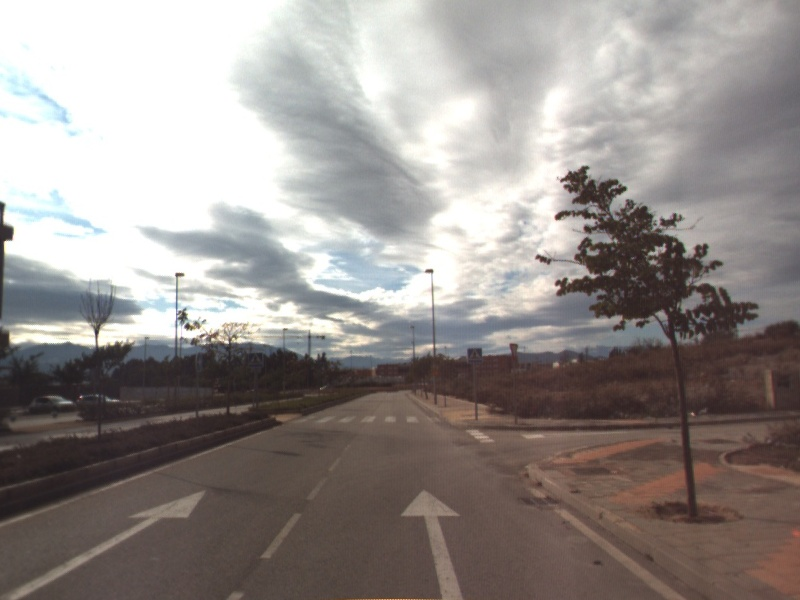STRAIGHT: (1, 486, 207, 600), (398, 487, 466, 600)
